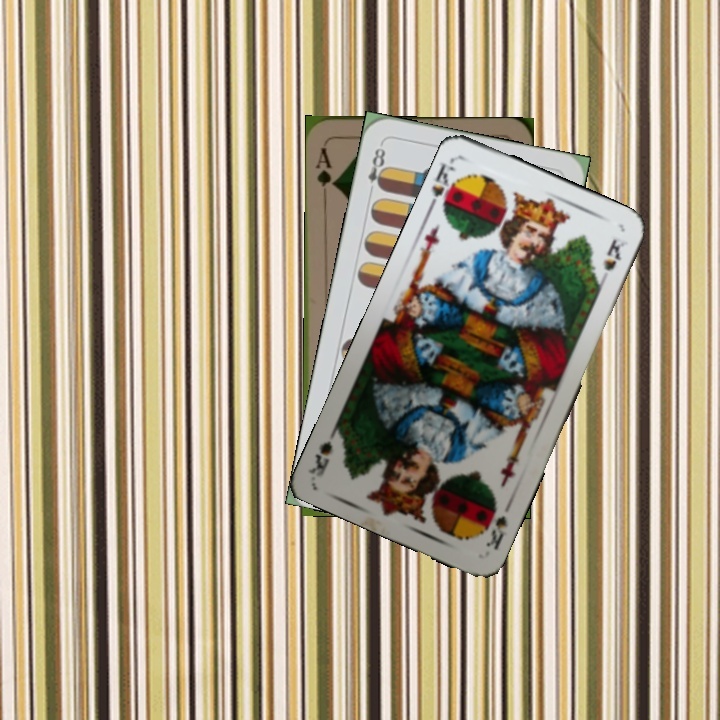E8: (364, 139, 390, 198)
GA: (312, 144, 339, 190)
SK: (425, 159, 464, 217), (481, 511, 511, 553)
